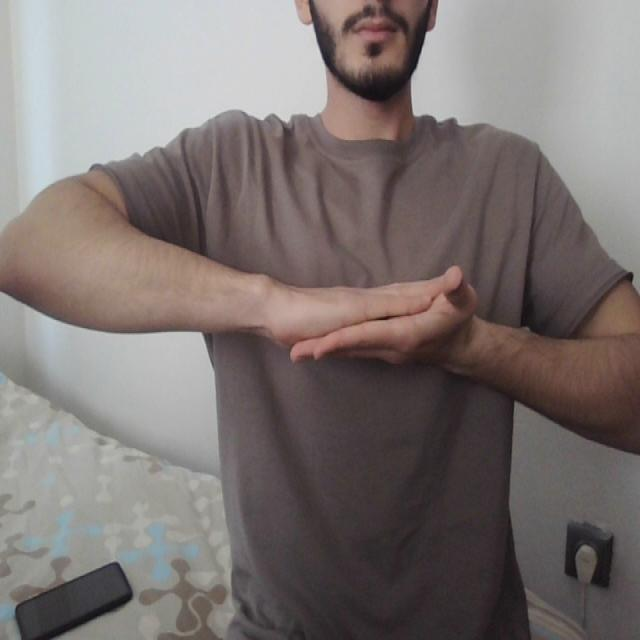Arkadas: (172, 224, 585, 440)
